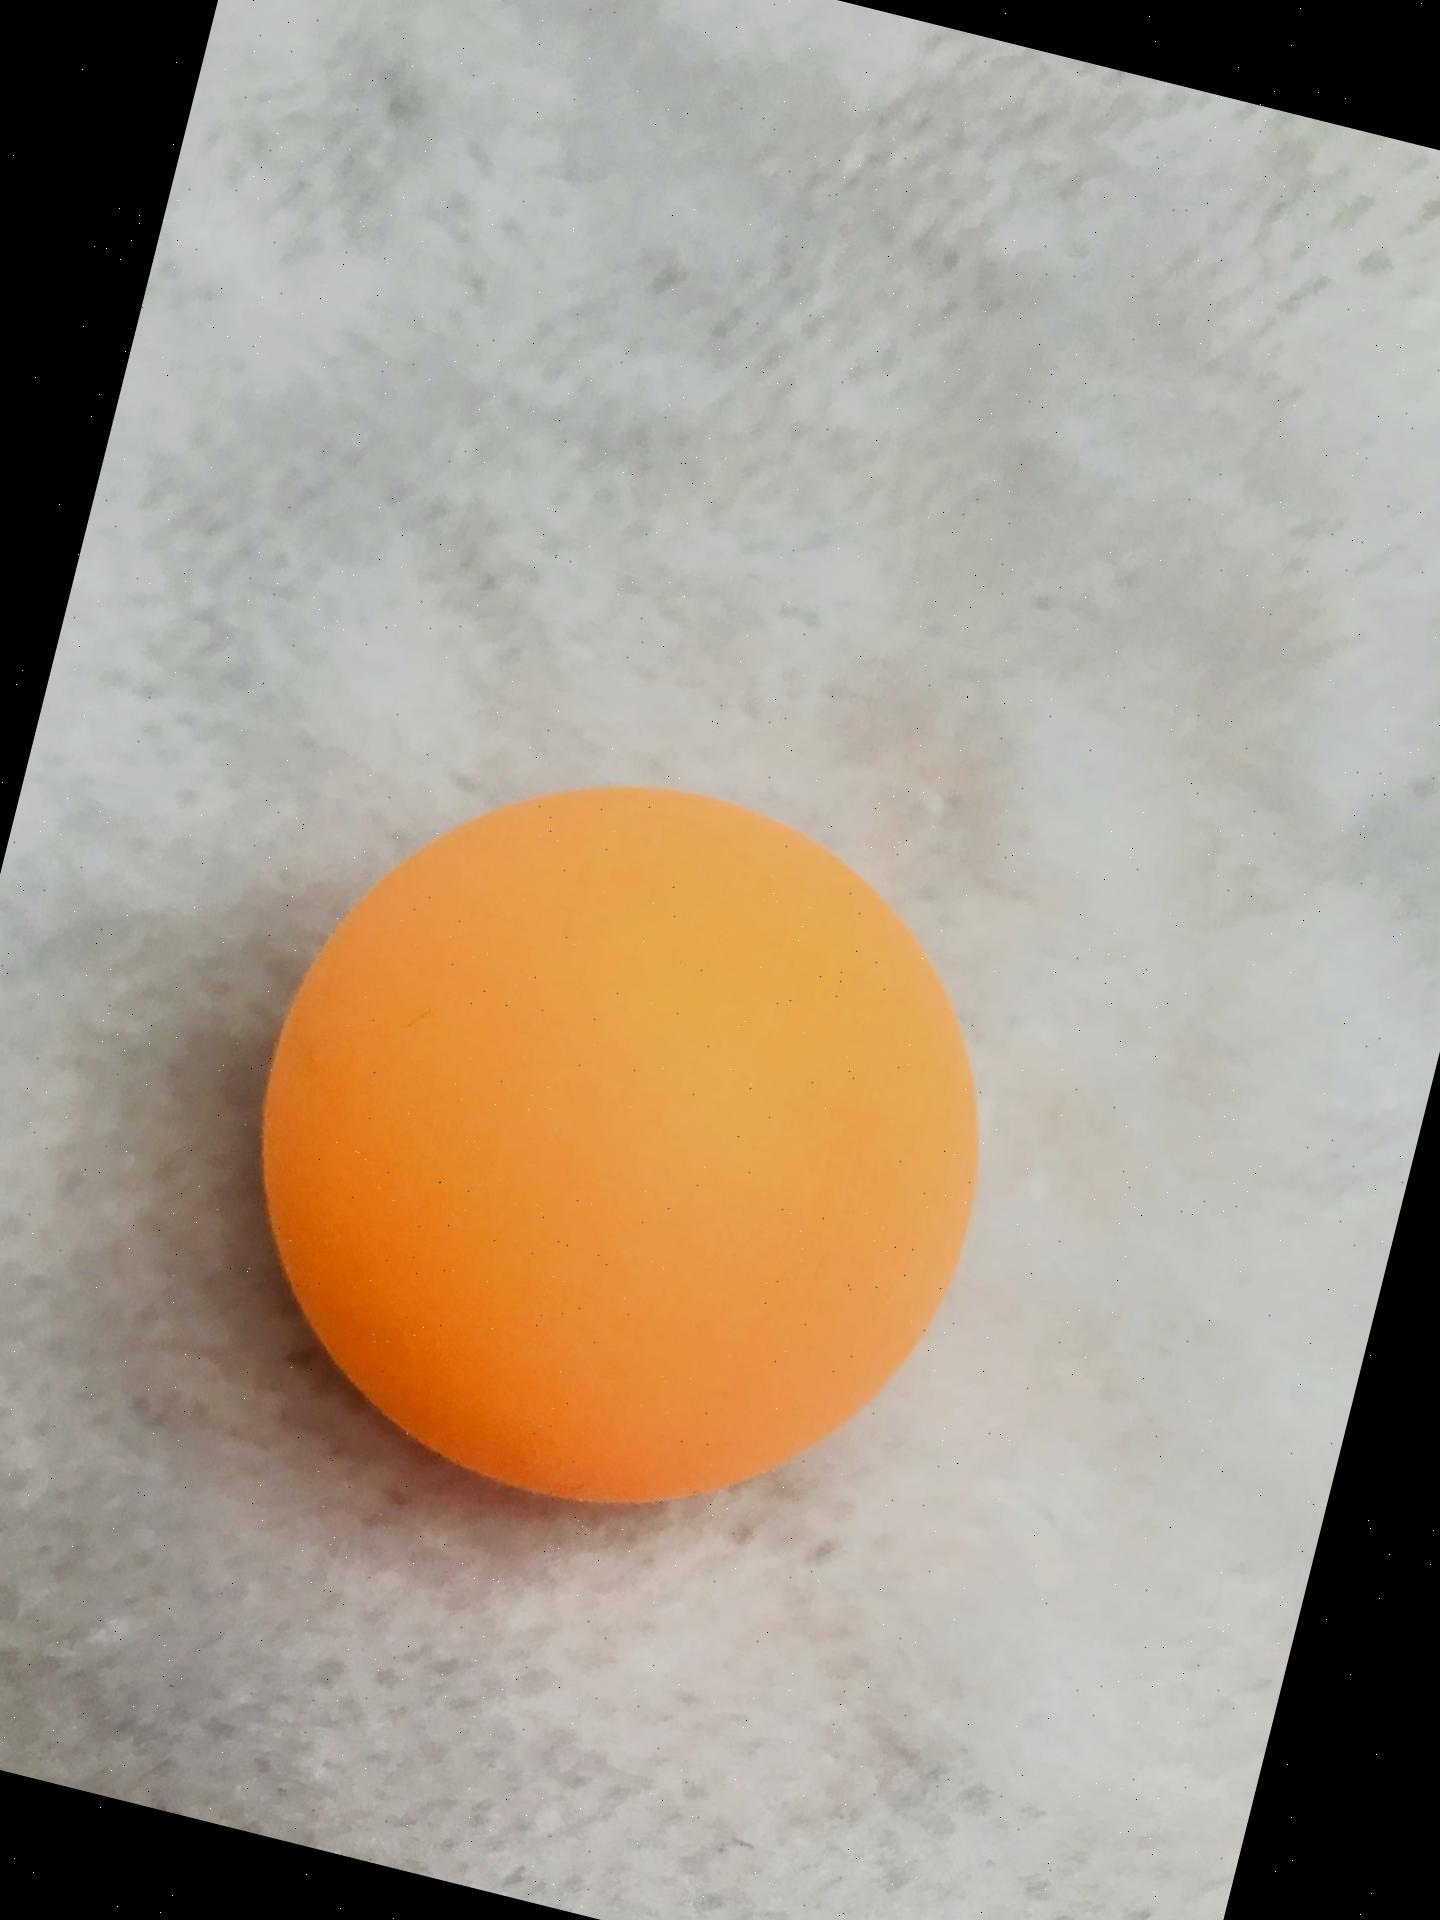ball: (163, 695, 1065, 1590)
